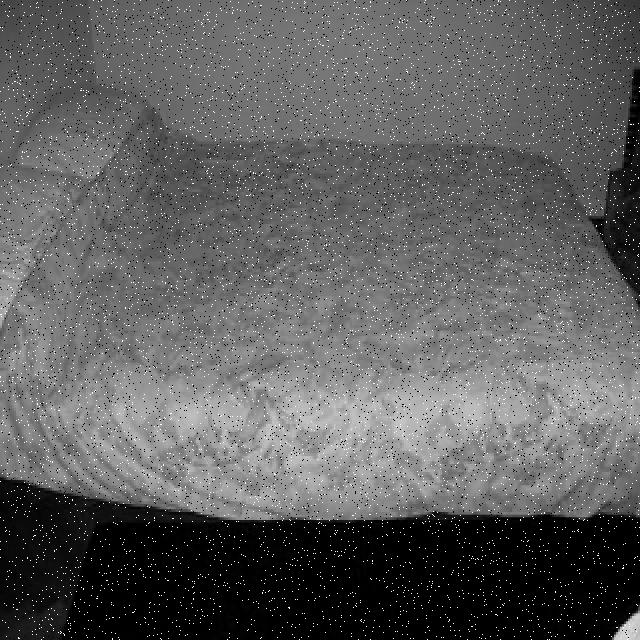bed: (0, 82, 640, 526)
